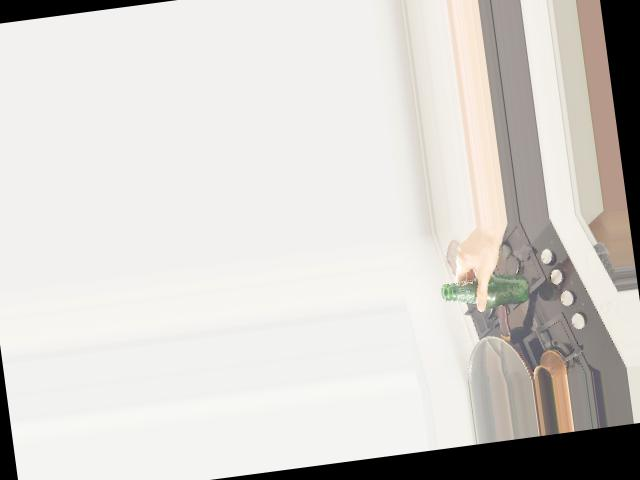beer: (441, 272, 531, 313)
